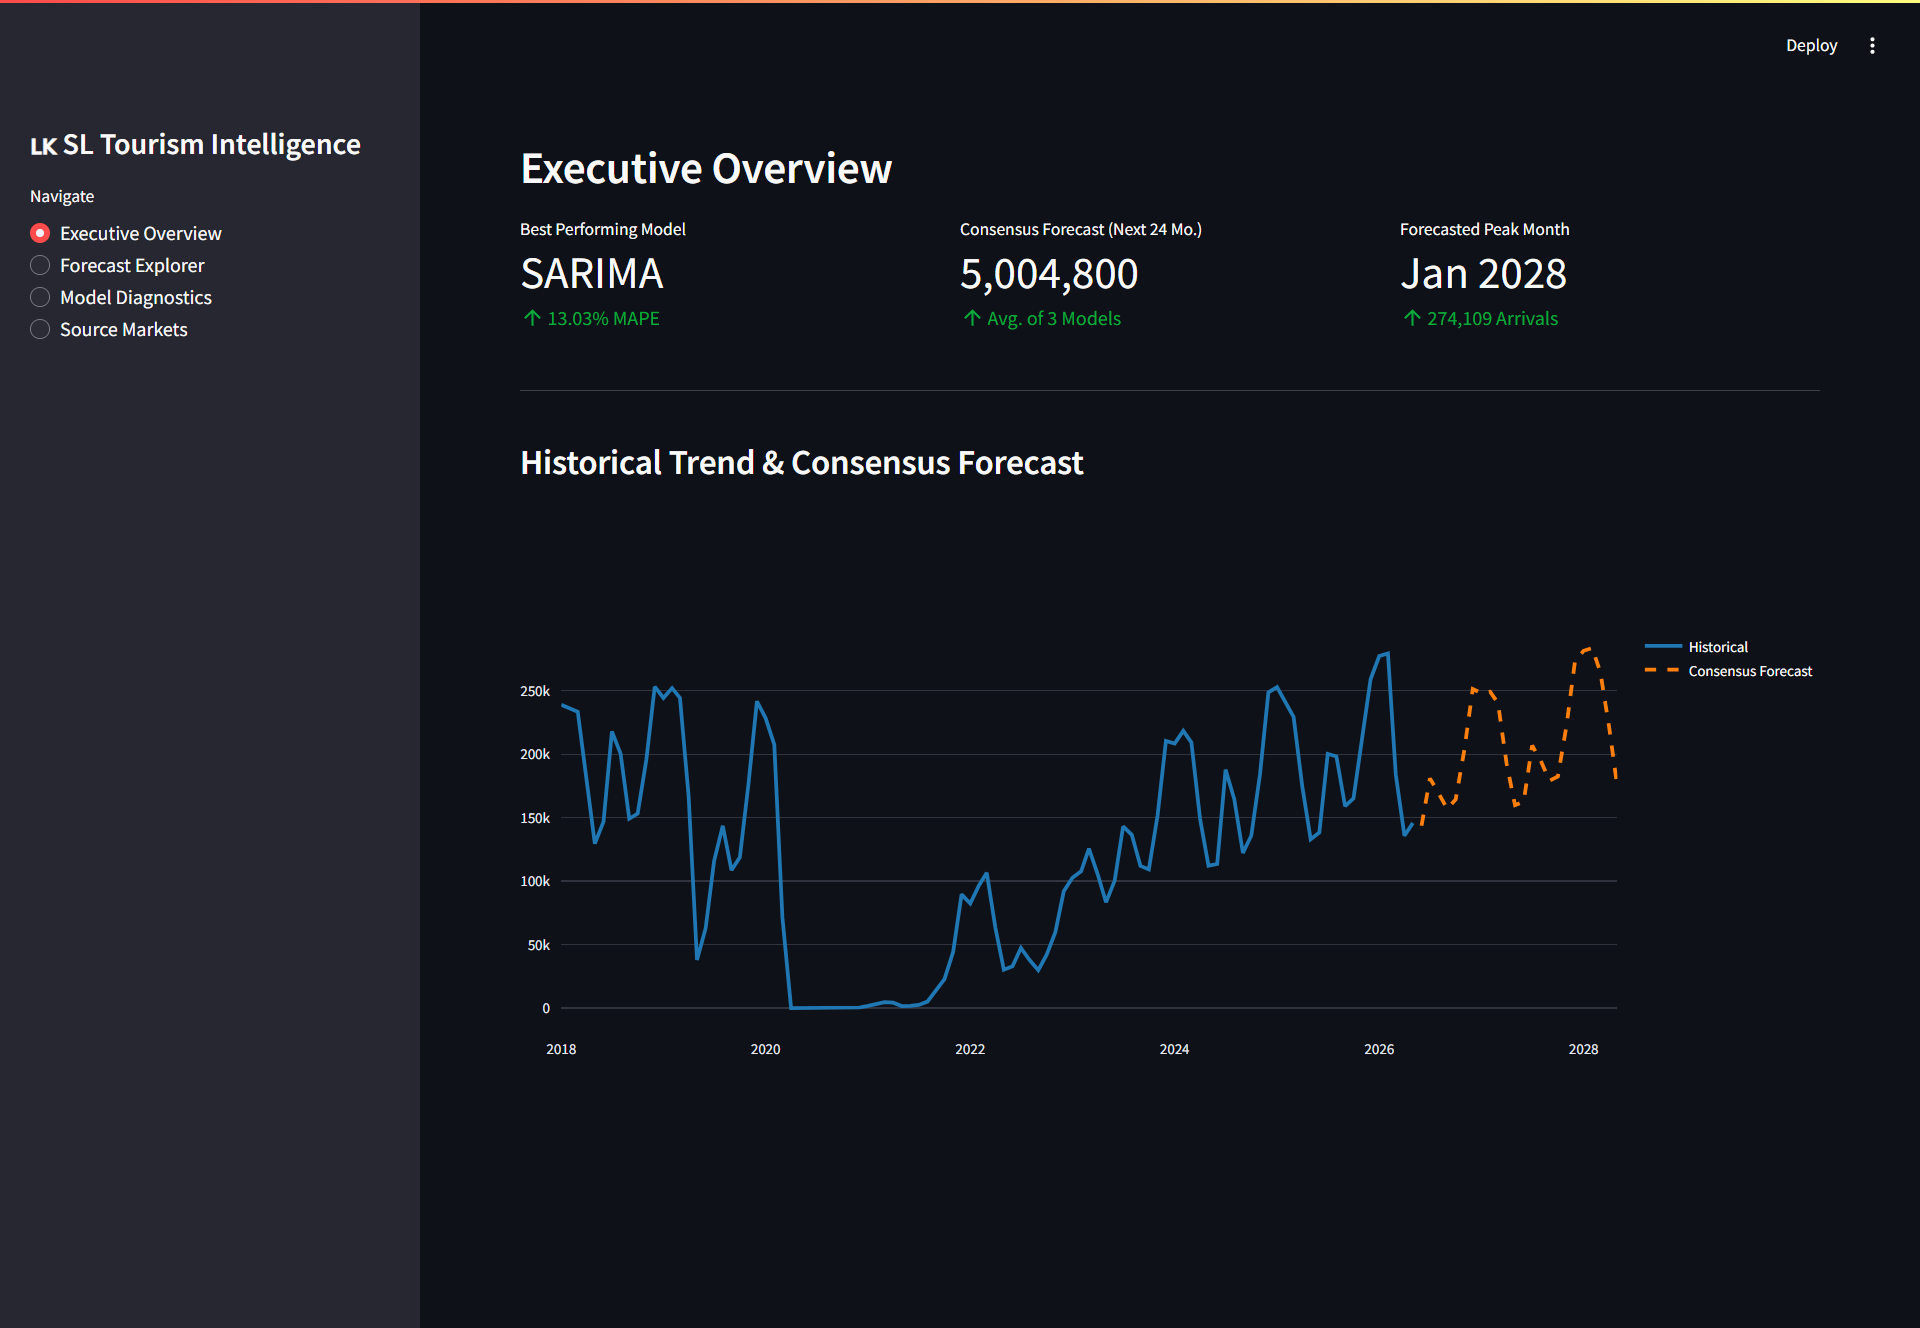

Layout of this report page (visuals, bound fields, positions):
{"tool":"powerbi","page":{"name":"Executive Overview","canvas":[1280,720],"ordinal":0},"visuals":[{"type":"shape","box":[0,0,1280,95],"z":0},{"type":"textbox","box":[20,8.8,667.5,77.5],"z":1000},{"type":"cardVisual","fields":{"Data":["MeasuresTable.Total Arrivals"]},"box":[1.2,95,320,106.2],"z":2000},{"type":"cardVisual","fields":{"Data":["MeasuresTable.YTD Arrivals Card"]},"box":[320,95,320,106.2],"z":3000},{"type":"cardVisual","fields":{"Data":["MeasuresTable.YoY Growth Card"]},"box":[640,96.2,320,106.2],"z":4000},{"type":"cardVisual","fields":{"Data":["MeasuresTable.Best Model by MAPE"]},"box":[957.5,95,320,106.2],"z":5000},{"type":"image","box":[11.2,110,113.8,73.8],"z":6000},{"type":"image","box":[338.8,117.5,80,65],"z":7000},{"type":"image","box":[651.2,117.5,88.8,65],"z":8000},{"type":"image","box":[976.2,116.2,98.8,63.8],"z":9000},{"type":"lineChart","title":"Total Arrivals ","fields":{"Y":["MeasuresTable.Total Arrivals"],"Category":["DimDate.Date"]},"box":[6.2,205,823.8,252.5],"z":10000},{"type":"clusteredColumnChart","title":"Monthly YoY Growth Pattern","fields":{"Y":["MeasuresTable.Avg YoY Growth % Negative","MeasuresTable.Avg YoY Growth % Positive"],"Category":["DimDate.Month Name"]},"box":[840,205,432,252.5],"z":11000},{"type":"lineChart","fields":{"Y":["MeasuresTable.Forecast Arrivals","MeasuresTable.Forecast Lower","MeasuresTable.Forecast Upper"],"Category":["DimDate.Year-Month"]},"box":[6.2,468.8,1266.2,238.8],"z":13000},{"type":"advancedSlicerVisual","title":"Model","fields":{"Values":["DimModel.model"]},"box":[953.8,18.5,317.5,59.1],"z":13001}]}

Visuals, with their boxes on the page's 1280x720 design canvas (x1, y1, x2, y2). These are canvas units, not pixel positions in the 1920x1328 screenshot, which may show the page scaled, cropped or inside an application window:
shape: bbox(0, 0, 1280, 95)
textbox: bbox(20, 9, 688, 86)
cardVisual - MeasuresTable.Total Arrivals: bbox(1, 95, 321, 201)
cardVisual - MeasuresTable.YTD Arrivals Card: bbox(320, 95, 640, 201)
cardVisual - MeasuresTable.YoY Growth Card: bbox(640, 96, 960, 202)
cardVisual - MeasuresTable.Best Model by MAPE: bbox(958, 95, 1278, 201)
image: bbox(11, 110, 125, 184)
image: bbox(339, 118, 419, 182)
image: bbox(651, 118, 740, 182)
image: bbox(976, 116, 1075, 180)
"Total Arrivals " lineChart: bbox(6, 205, 830, 458)
"Monthly YoY Growth Pattern" clusteredColumnChart: bbox(840, 205, 1272, 458)
lineChart - MeasuresTable.Forecast Arrivals x MeasuresTable.Forecast Lower: bbox(6, 469, 1272, 708)
"Model" advancedSlicerVisual: bbox(954, 18, 1271, 78)
